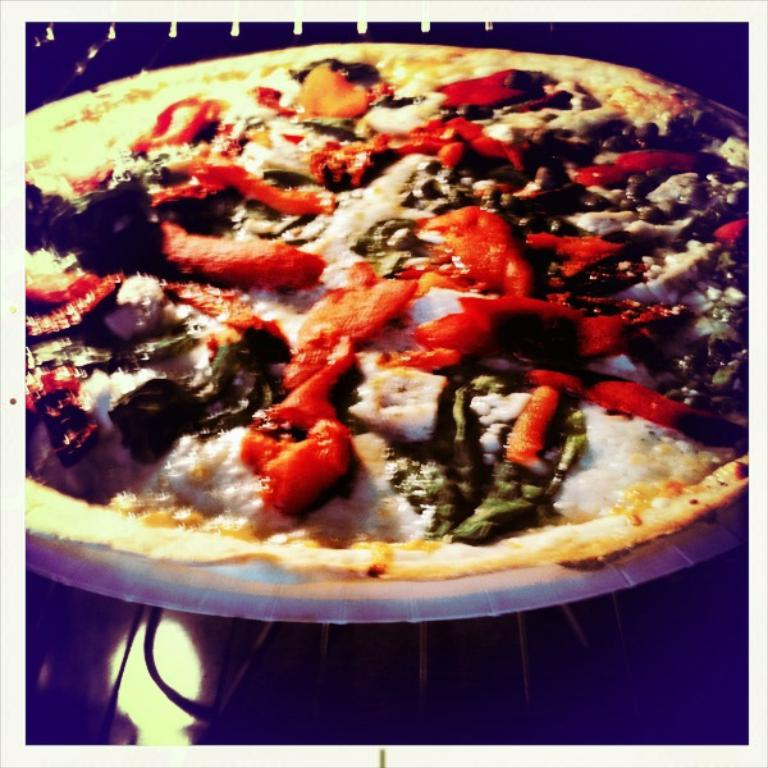Pizza: (23, 46, 756, 577)
